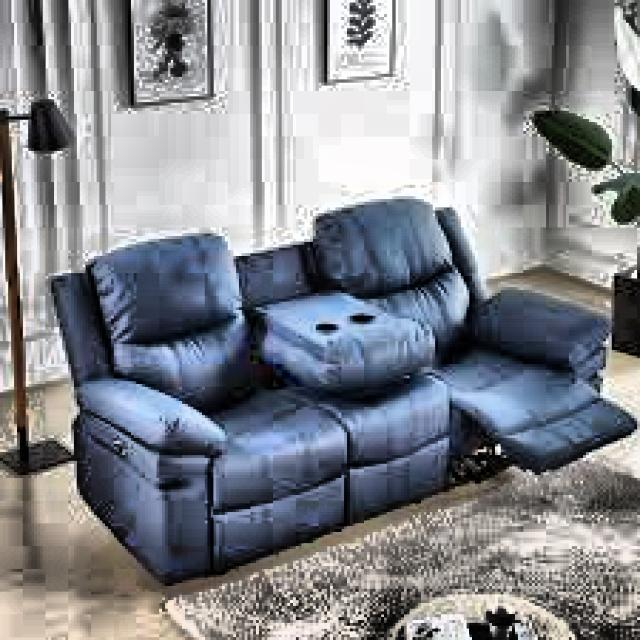sofa: (59, 193, 612, 589)
